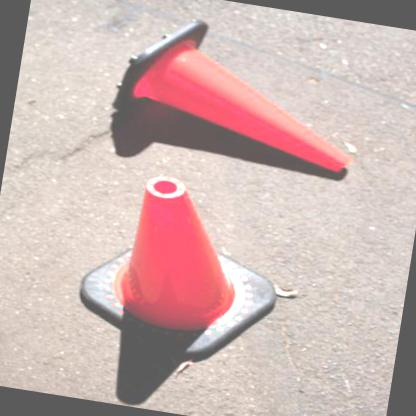cone: (72, 165, 294, 373), (106, 8, 369, 175)
